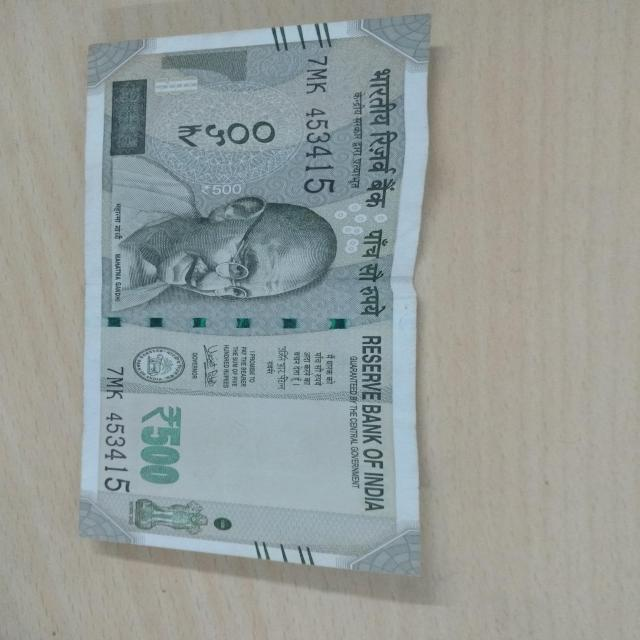Currency: (67, 28, 430, 583)
